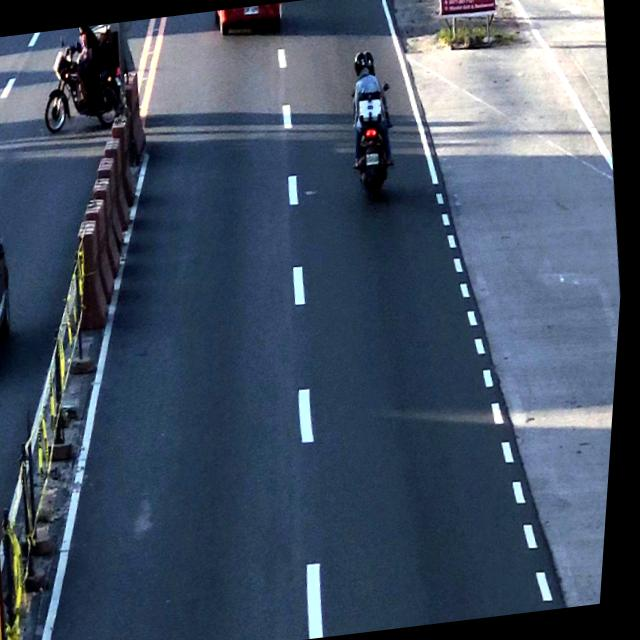Motorcycle: (338, 39, 407, 195)
